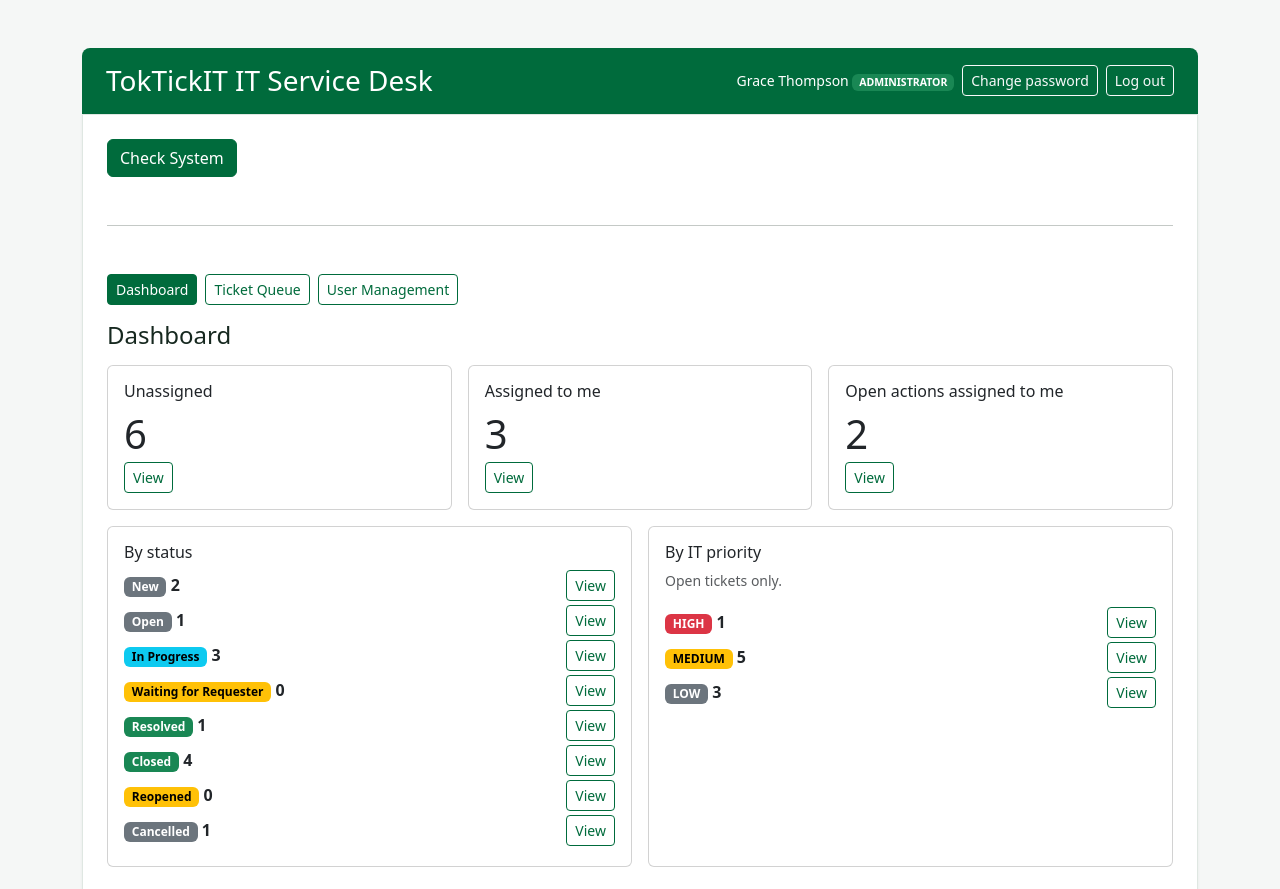
Test: App Shell › role-scoped navigation › Administrator: moves between the three pages, marking the current one and showing only that page
The width and height of the screenshot is (1280, 889).
Expected: the heading "Dashboard" is shown, x1=107 y1=318 x2=231 y2=351
Click the button "Ticket Queue": (258, 289) x1=206 y1=274 x2=310 y2=305
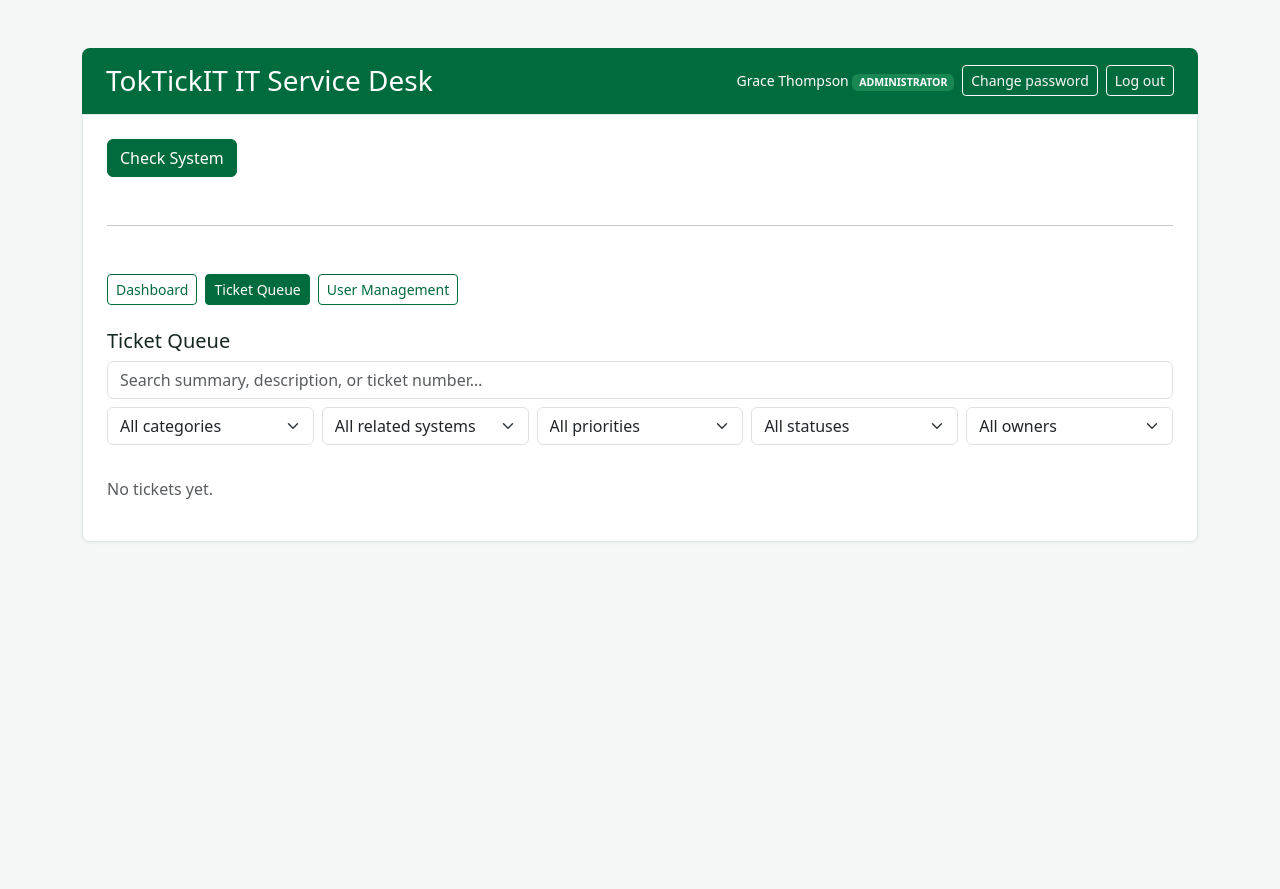
Expected: the heading "Ticket Queue" is shown, x1=107 y1=327 x2=230 y2=354
Expected: the button "Ticket Queue" is marked as current, x1=206 y1=274 x2=310 y2=305
Expected: the button "Dashboard" does not have attribute aria-current, x1=107 y1=274 x2=198 y2=305
Click the button "User Management": (388, 289) x1=318 y1=274 x2=458 y2=305
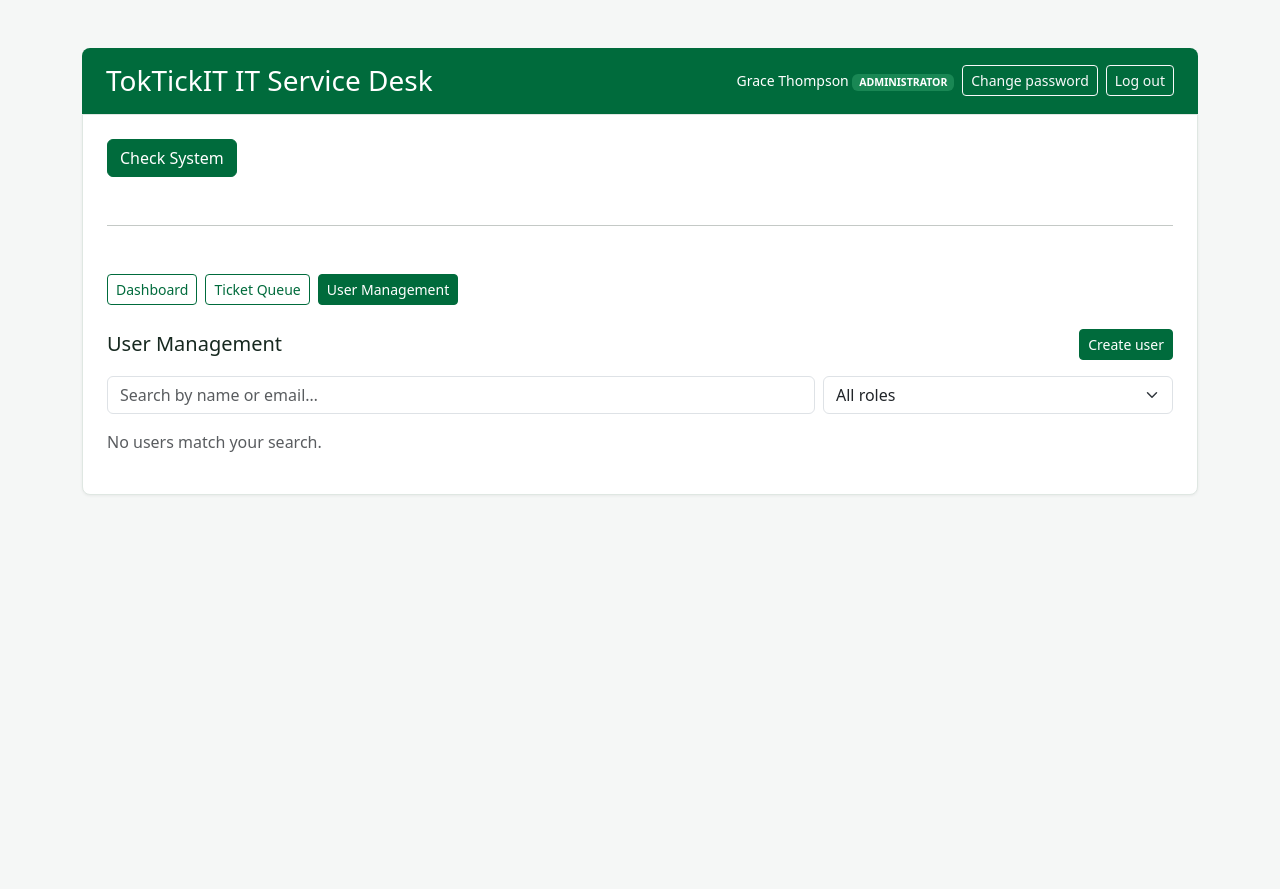
Expected: the heading "User Management" is shown, x1=107 y1=332 x2=282 y2=356
Click the button "Dashboard": (152, 289) x1=107 y1=274 x2=198 y2=305
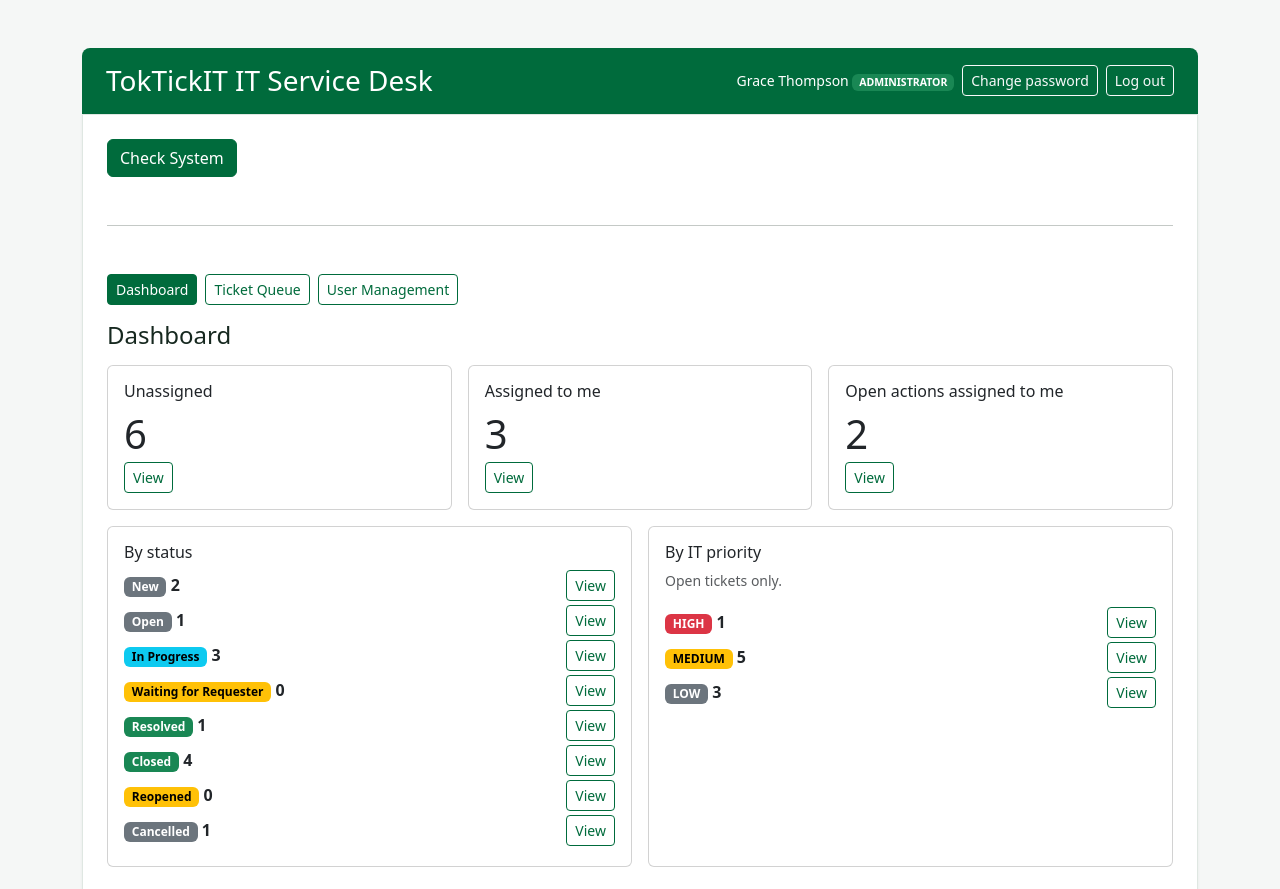
Expected: the heading "Dashboard" is shown, x1=107 y1=318 x2=231 y2=351
